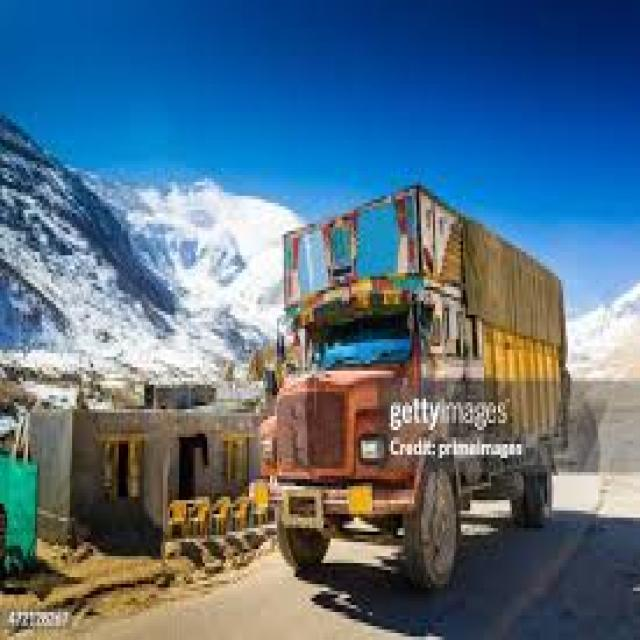truck: (273, 182, 566, 598)
